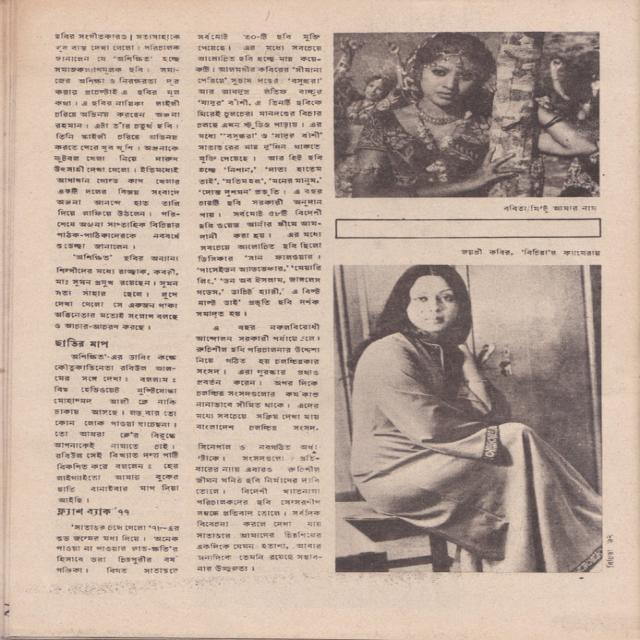caption: (460, 247, 601, 257), (502, 203, 598, 214)
image: (332, 264, 604, 574), (333, 30, 601, 199)
paragraph: (194, 32, 323, 319), (194, 323, 323, 573), (53, 31, 182, 251), (52, 351, 181, 504), (53, 252, 180, 332), (55, 524, 181, 575)
text: (605, 548, 616, 569), (605, 533, 616, 545)
title: (52, 506, 132, 517), (52, 337, 110, 349)
